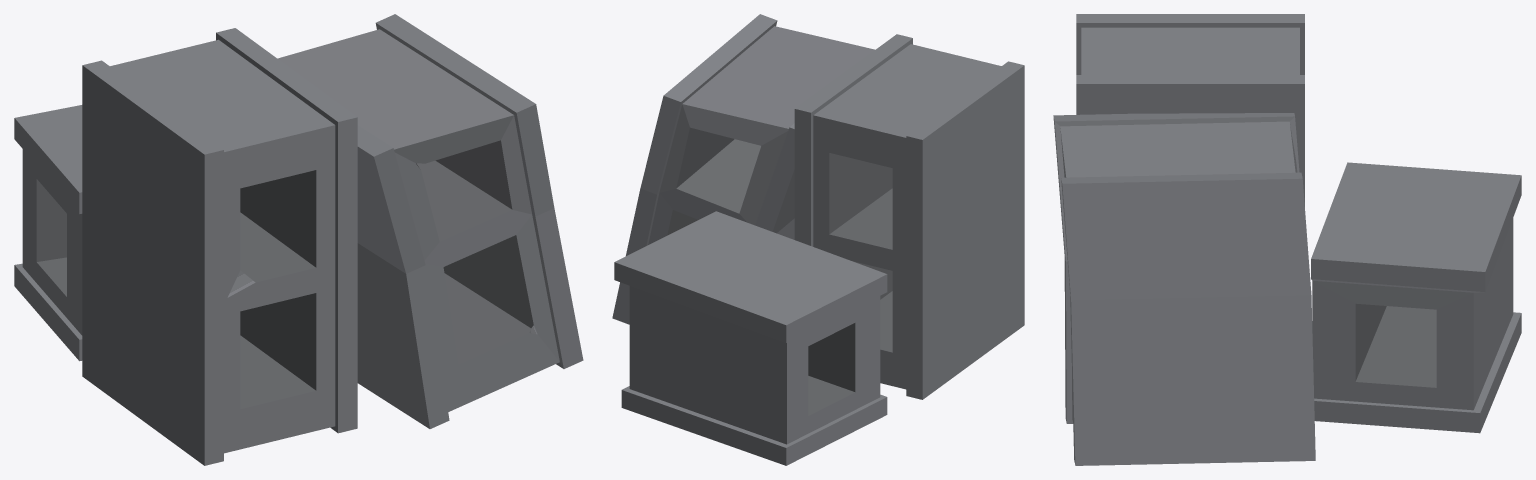
File: ConcreteBlockStacks_1.fbx
The picture shows the model from 3 angles, left to right: view 1: azimuth 30°, elevation 25°; view 2: azimuth 150°, elevation 25°; view 3: azimuth 270°, elevation 25°; orthographic projection. The views are drawn at different scales.
Parts seen in each view (by area): view 1: ConcreteBlockStacks_1; view 2: ConcreteBlockStacks_1; view 3: ConcreteBlockStacks_1.
Boxes of the visible parts, x1,y1,x2,y2 form: ConcreteBlockStacks_1: (14,14,583,465); ConcreteBlockStacks_1: (612,14,1024,465); ConcreteBlockStacks_1: (1053,14,1521,465).
Size of the model in its own units: 46.41 by 38.07 by 53.08.
